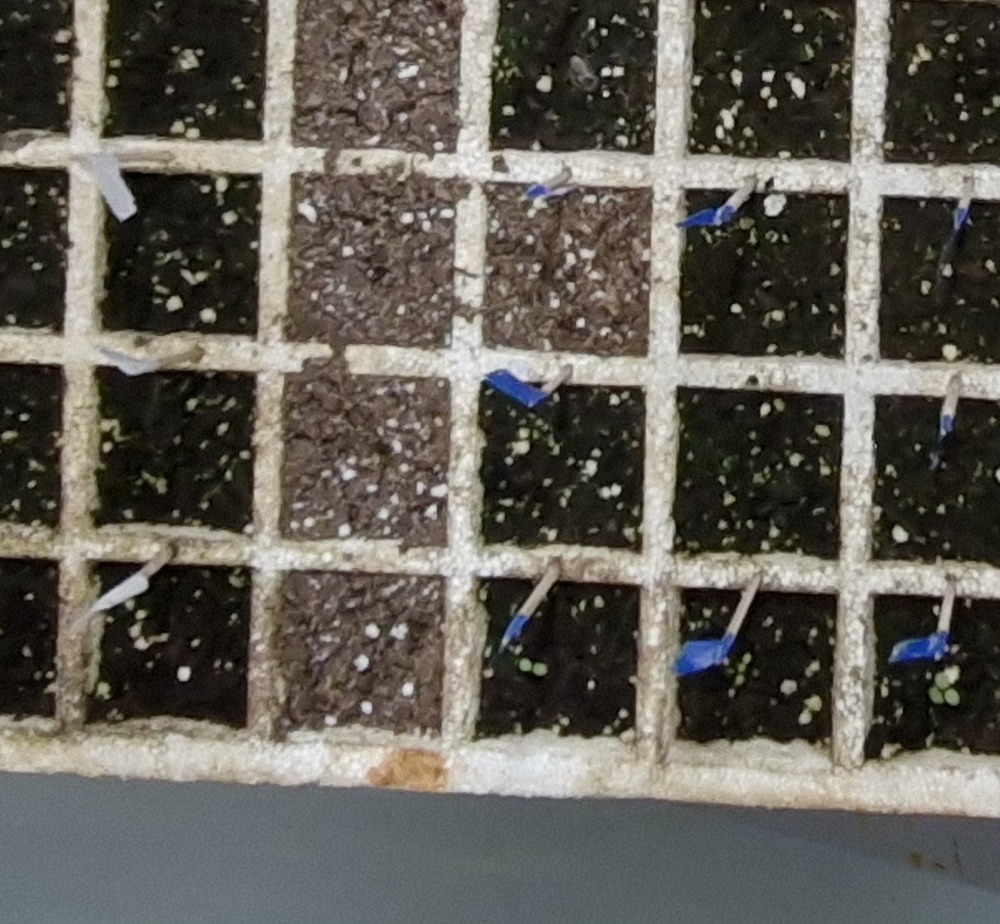Folha: (935, 672, 950, 688), (945, 689, 960, 704), (928, 687, 942, 702), (534, 663, 546, 677), (520, 659, 533, 670)
Germinacao: (930, 674, 961, 705), (519, 657, 548, 677)
